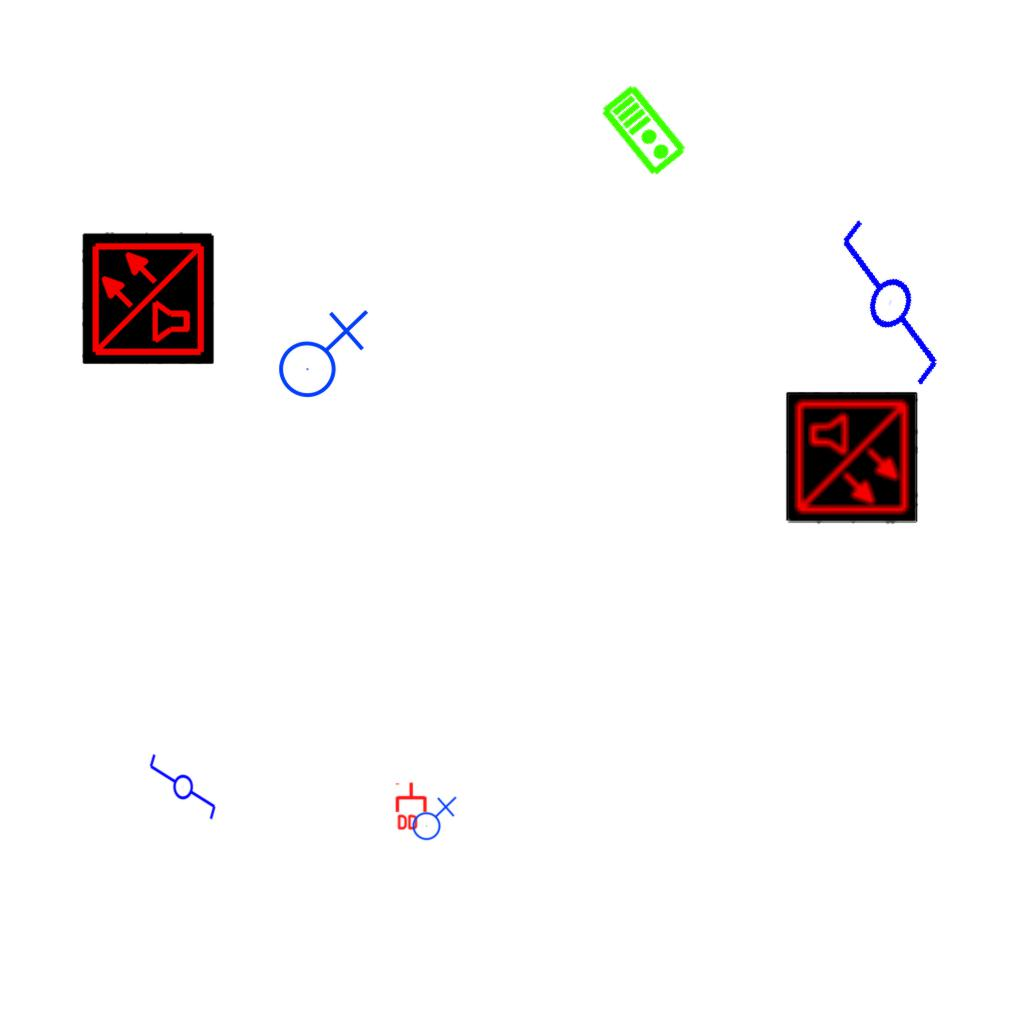Datenanschluss_zweifach: (395, 781, 429, 832)
Elektroanschluss_allgemein_230V_Geraeteanschlussdose_230V: (270, 305, 369, 399), (408, 794, 457, 841)
Gegensprechanlage_mit_Video: (598, 81, 691, 179)
OKW_Multisensormelder_(Kombination_optischer_Rauch-Kahlenmonoxid_Waerme-Melder): (82, 232, 214, 364), (786, 392, 918, 524)
Wechselschalter: (790, 210, 981, 410), (146, 752, 218, 830)
